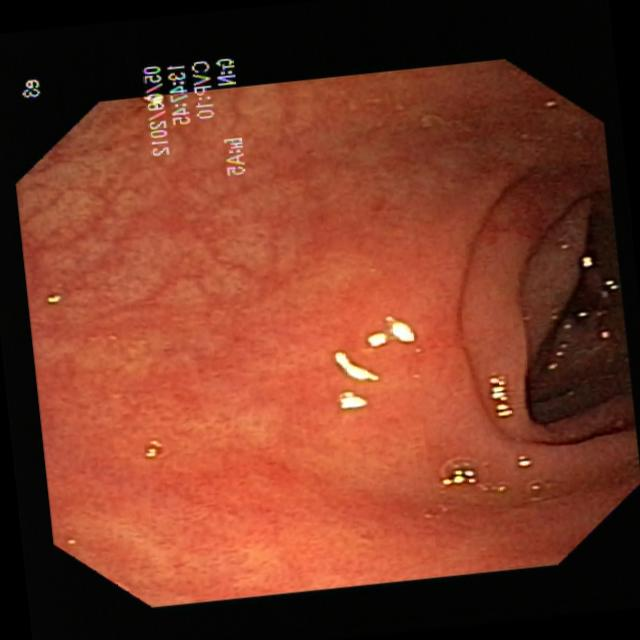ulcerative-colities: (418, 55, 604, 260)
